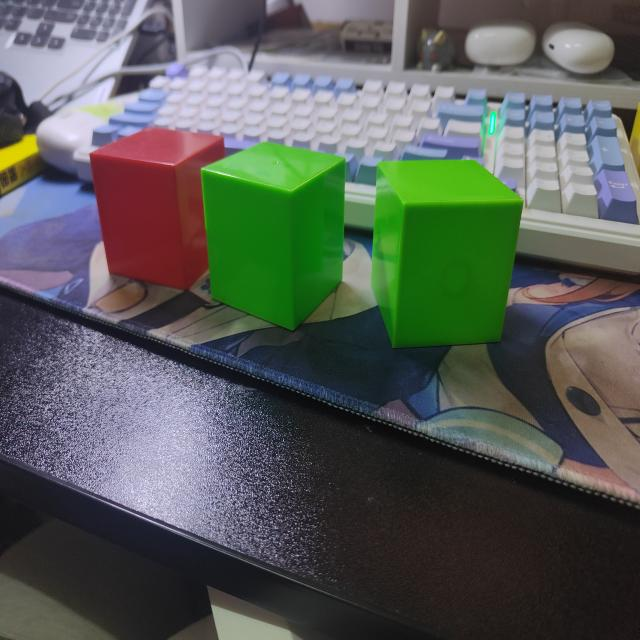green: (371, 158, 524, 352), (198, 142, 346, 331)
red: (89, 126, 228, 293)
